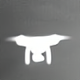plane: (4, 33, 71, 66)
